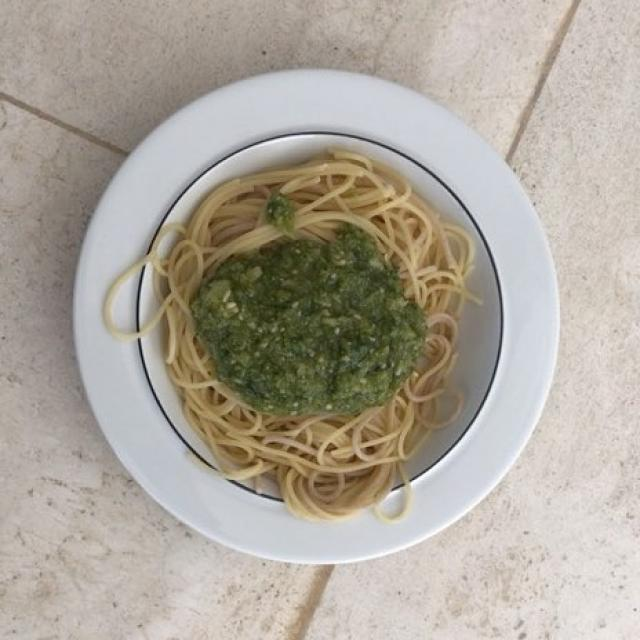pasta: (150, 150, 477, 515)
sauce: (207, 229, 430, 419)
